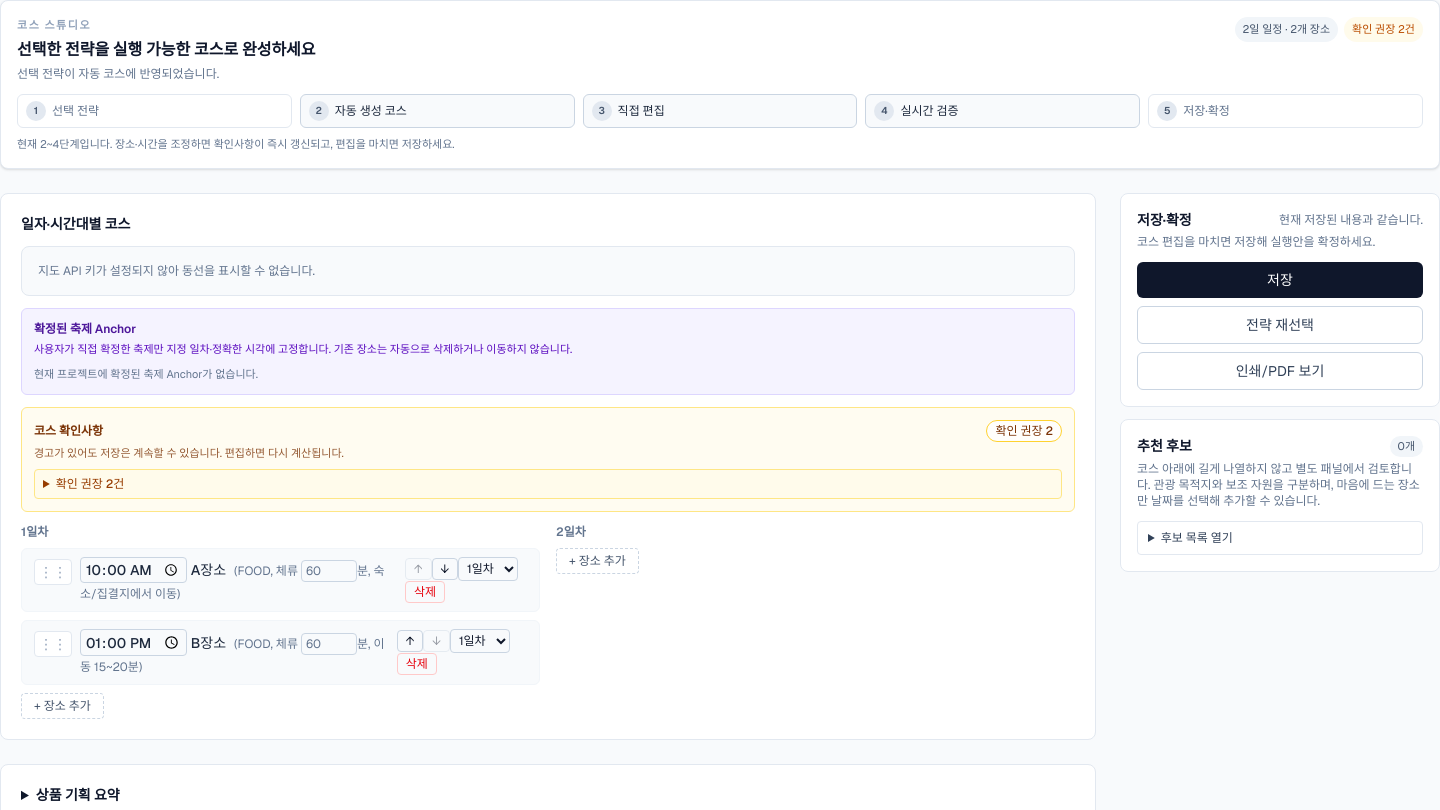
Test: PlanEditor 코스 순서 변경 › 위/아래로 이동하면 목록 순서만 바뀌고 각 장소가 가진 시간은 그대로 유지된다
Click the button named "B장소 위로 이동": [410, 641] box [397, 630, 423, 652]
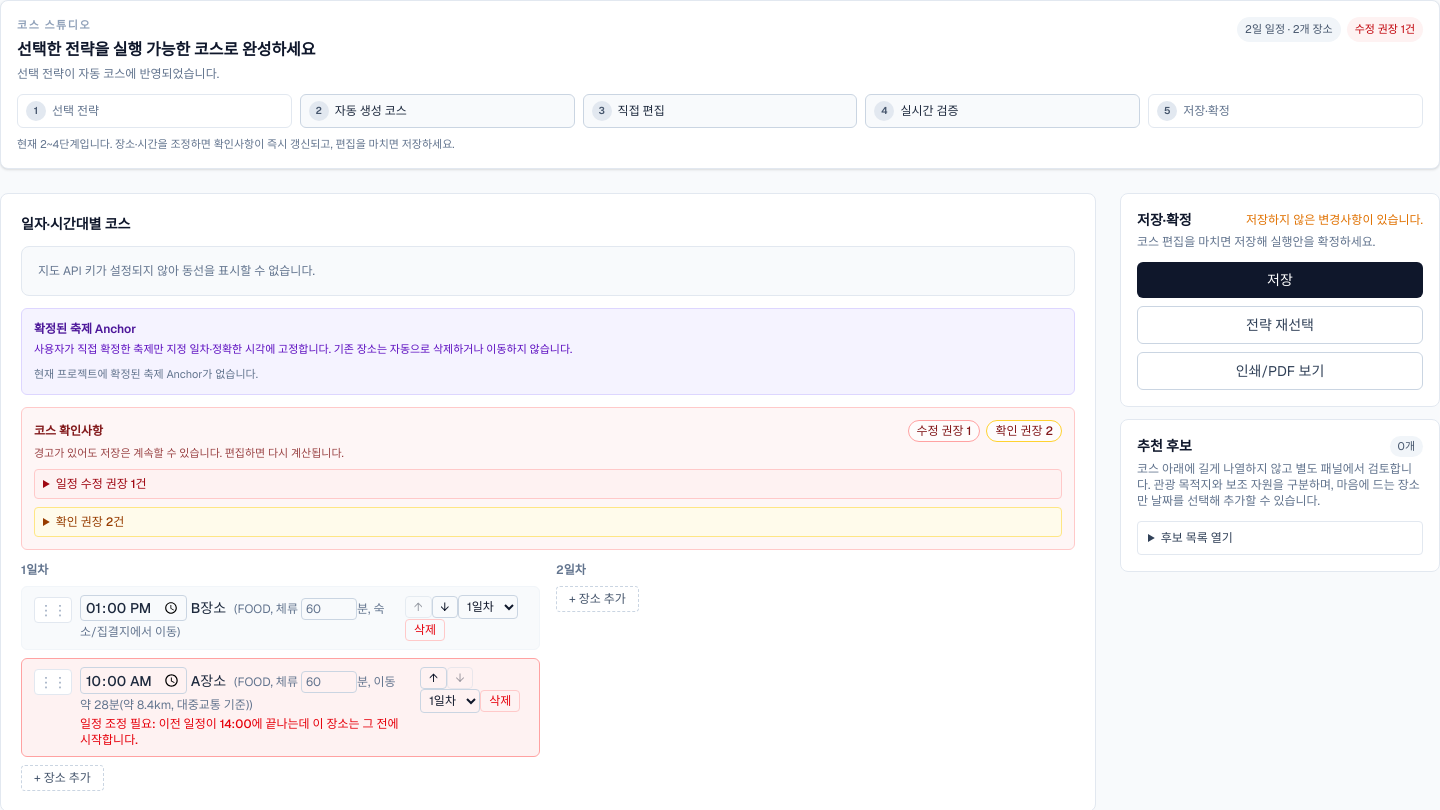
Expected: the text "일정 조정 필요: 이전 일정이 14:00에 끝나는데 이 장소는 그 전에 시작합니다." is shown, [80, 716, 408, 748]
